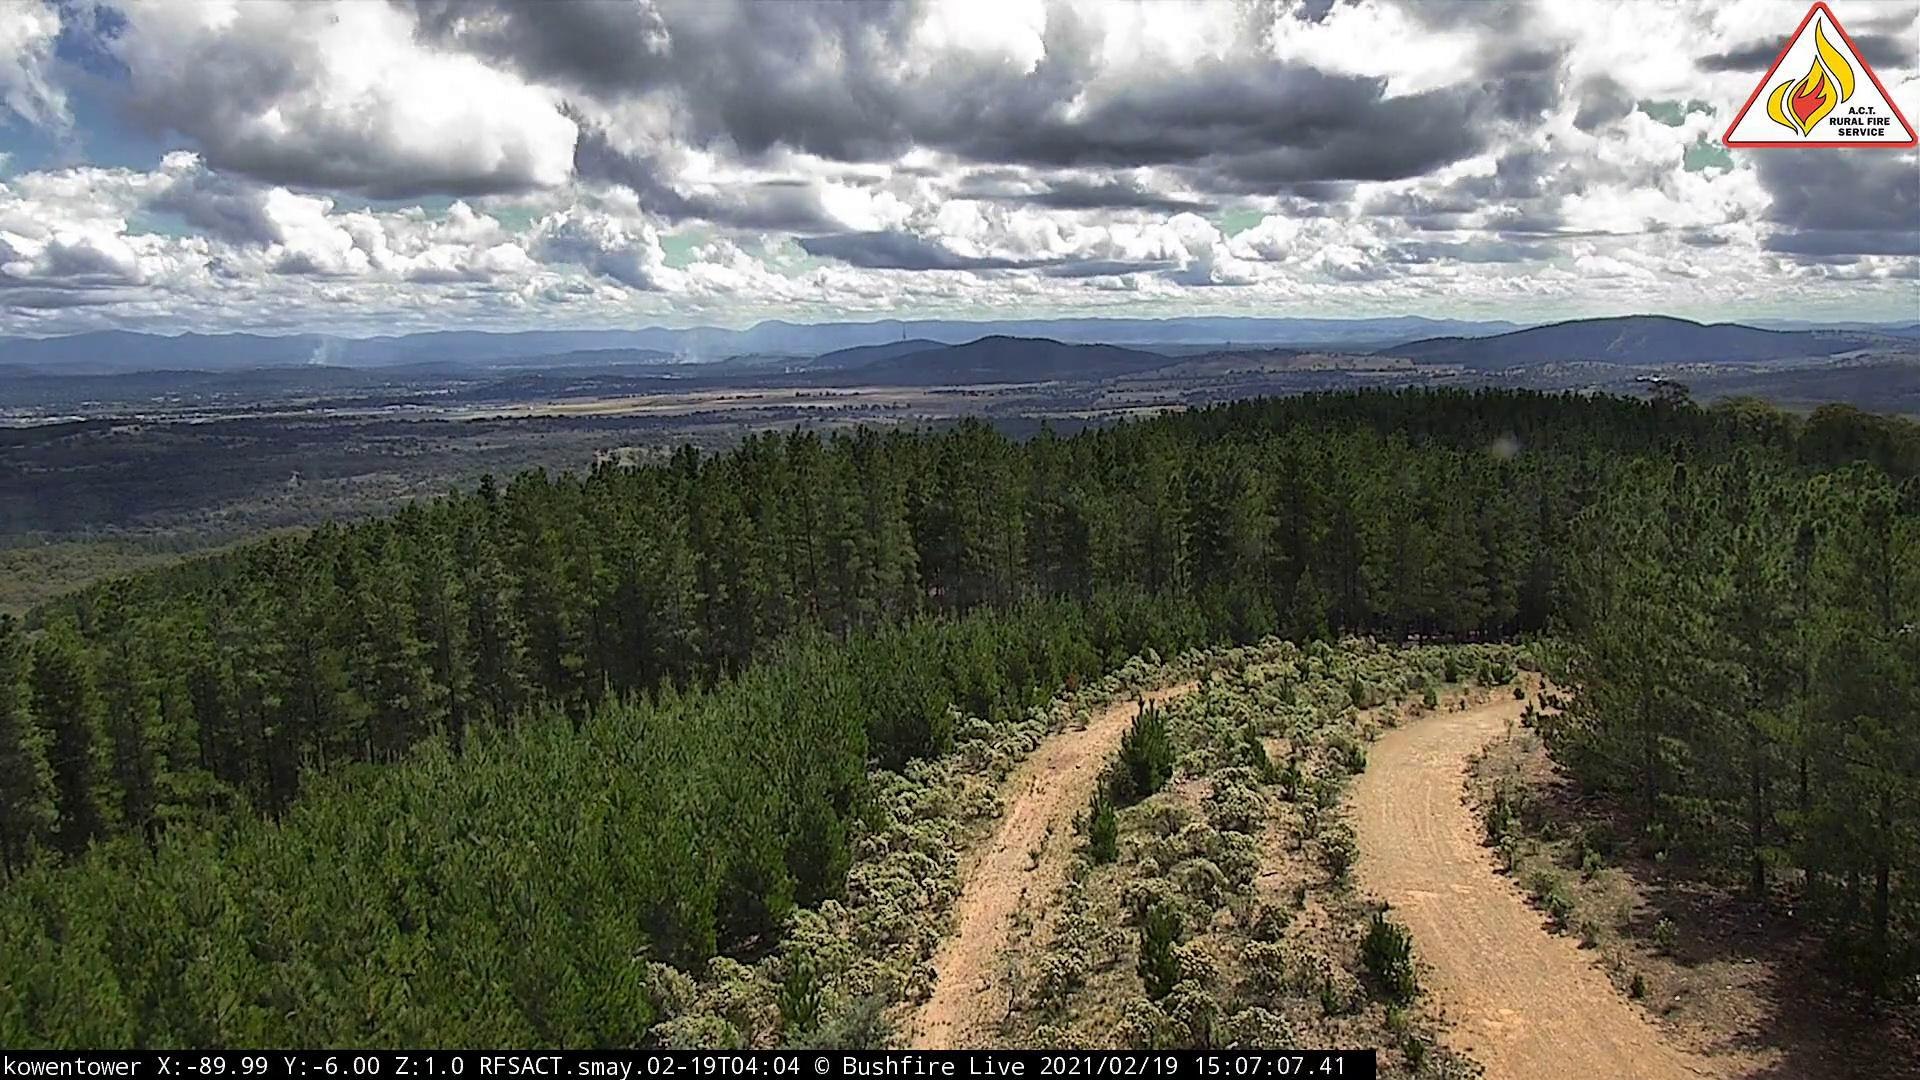instance_salient_object: (291, 331, 368, 371), (667, 328, 717, 375)
